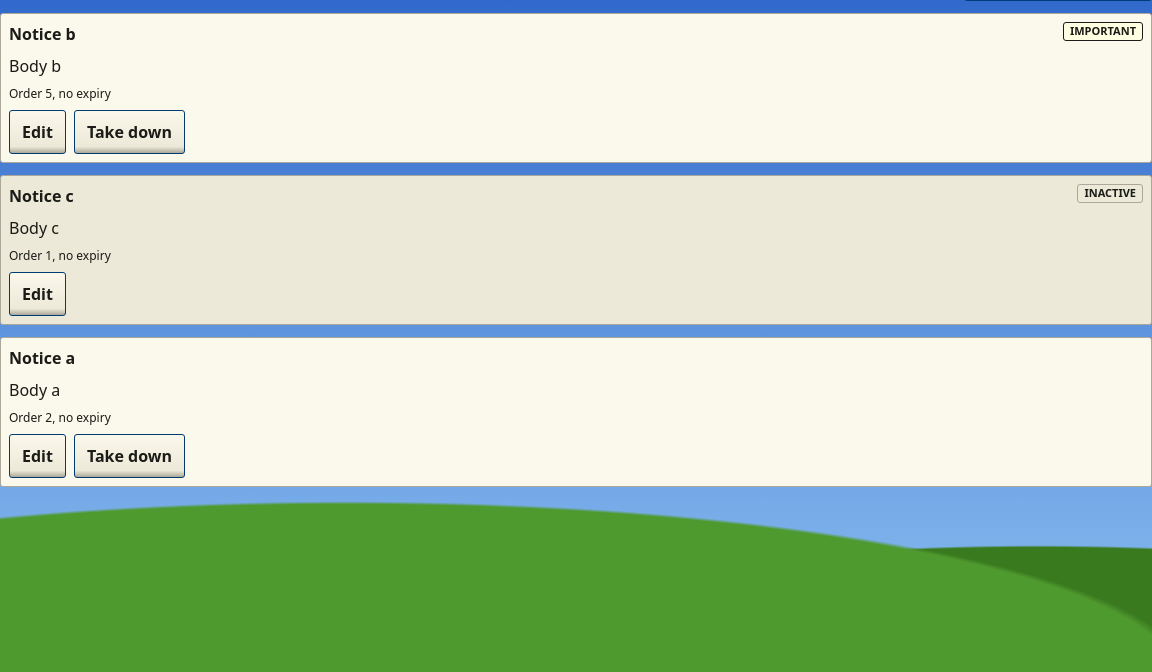
Test case: Admin: Announcements › sends only the edited fields
The image size is (1152, 672).
Click the button "Edit" below "Body a" at point(37, 456), box [9,434,66,478]
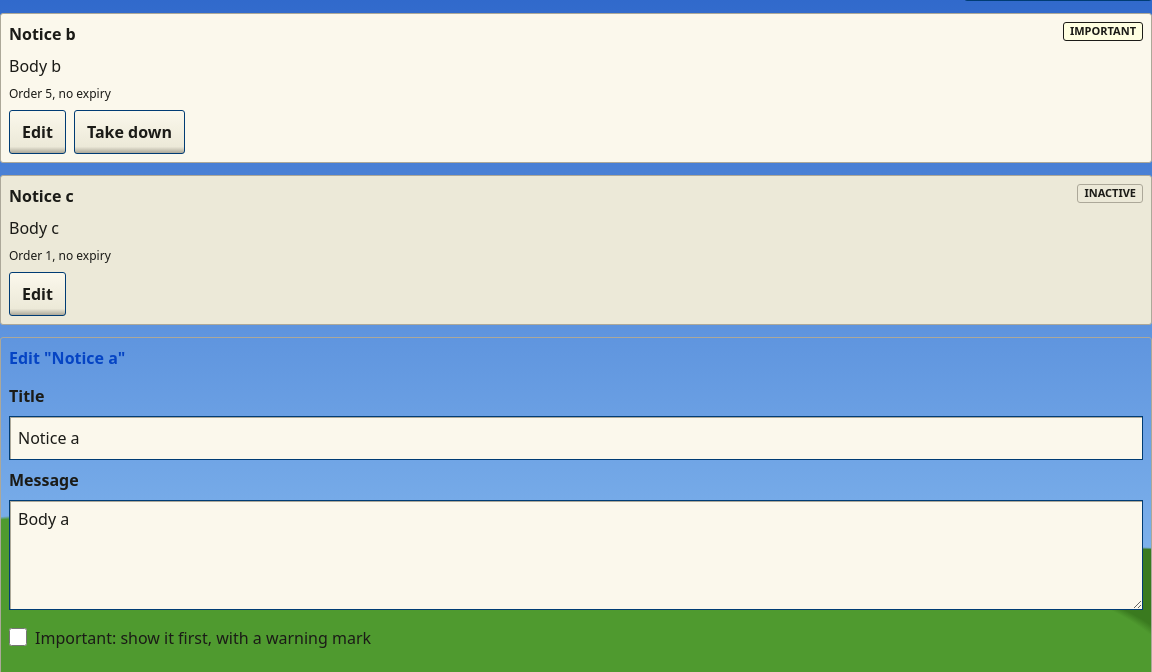
Replace the text in the field labelled "Title" with "Renamed" at point(576, 438), box [9,416,1143,460]
(page scrolled)
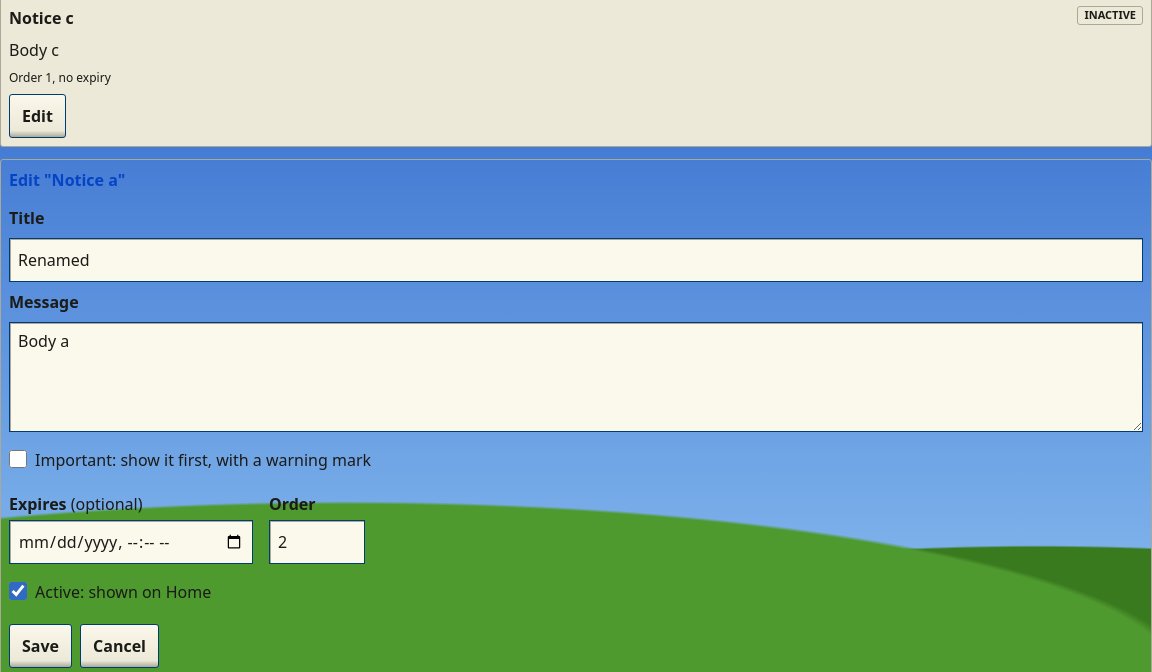
Click the button "Save" at point(40, 646), box [9,624,72,668]
(page scrolled)
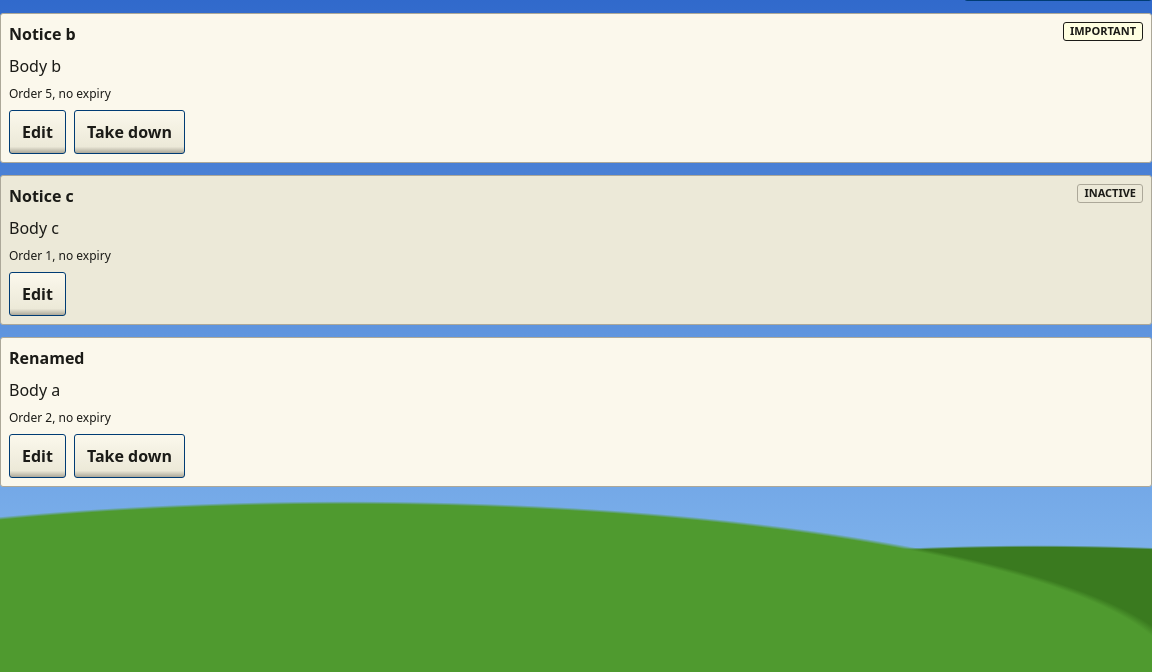
Now the element "Renamed" is shown, box [0,337,1151,487]
